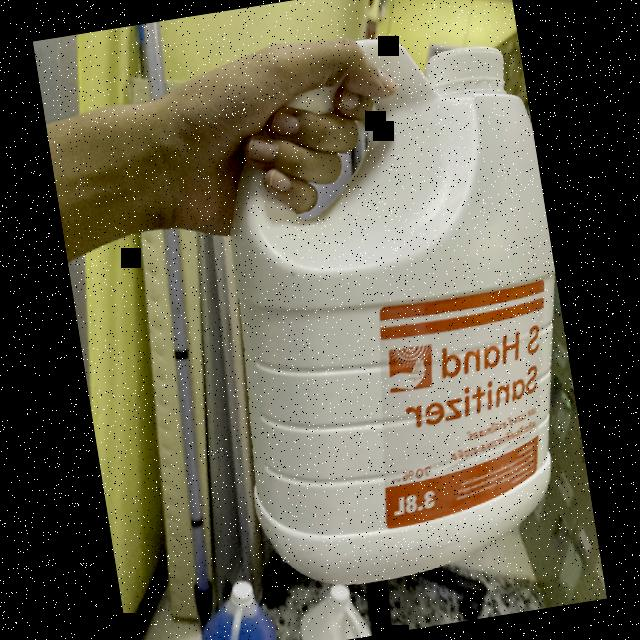chemical_plastic_gallon: (182, 12, 598, 600)
